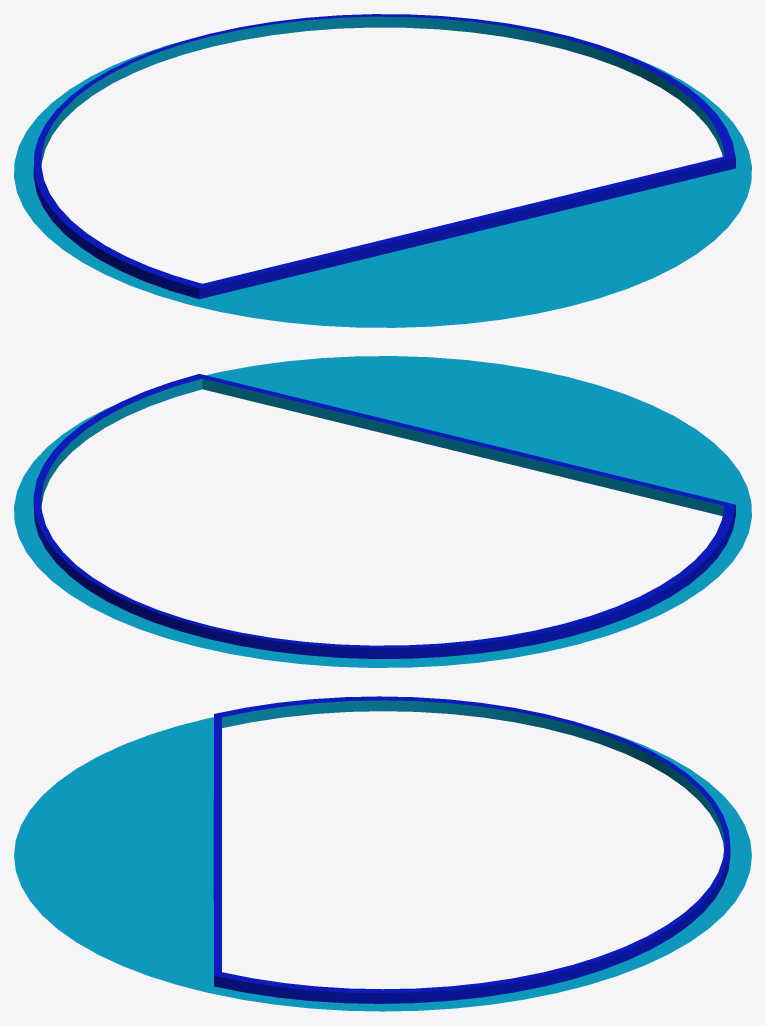
Rendered from 02-Gauge-Front-Cover-Bevel.fbx.
3 views of the same model, one above another, from view 1: azimuth 30°, elevation 25°; view 2: azimuth 150°, elevation 25°; view 3: azimuth 270°, elevation 25° (orthographic).
Parts seen in each view (by area): view 1: 02-Gauge-Front-Cover-Bevel; view 2: 02-Gauge-Front-Cover-Bevel; view 3: 02-Gauge-Front-Cover-Bevel.
Part boxes in pixels (box(x1,y1,x2,y2)): 02-Gauge-Front-Cover-Bevel: box(14, 14, 751, 327); 02-Gauge-Front-Cover-Bevel: box(14, 356, 751, 667); 02-Gauge-Front-Cover-Bevel: box(14, 696, 751, 1011).
Size of the model in its own units: 197 by 3.17 by 197.
